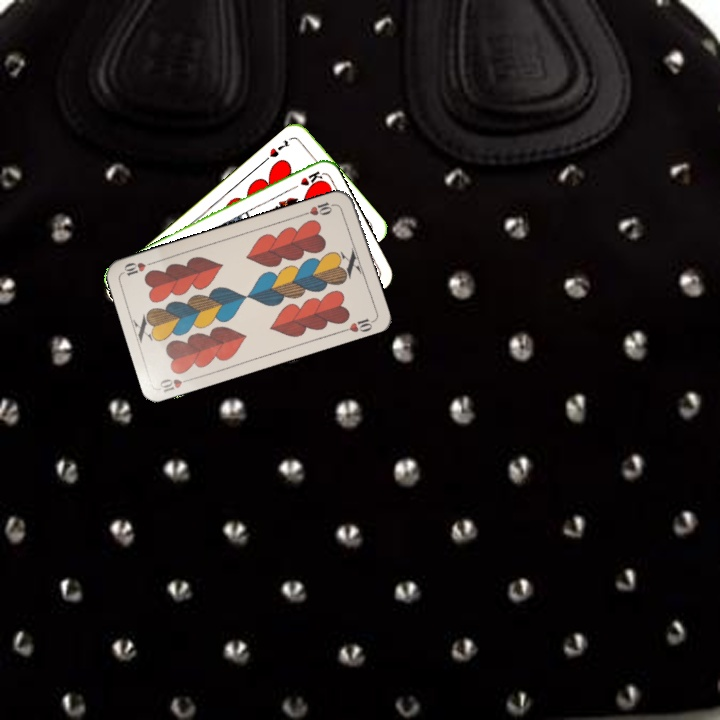H10: (156, 373, 196, 395), (299, 198, 339, 218)
H7: (265, 136, 292, 160)
HK: (285, 167, 324, 193)
